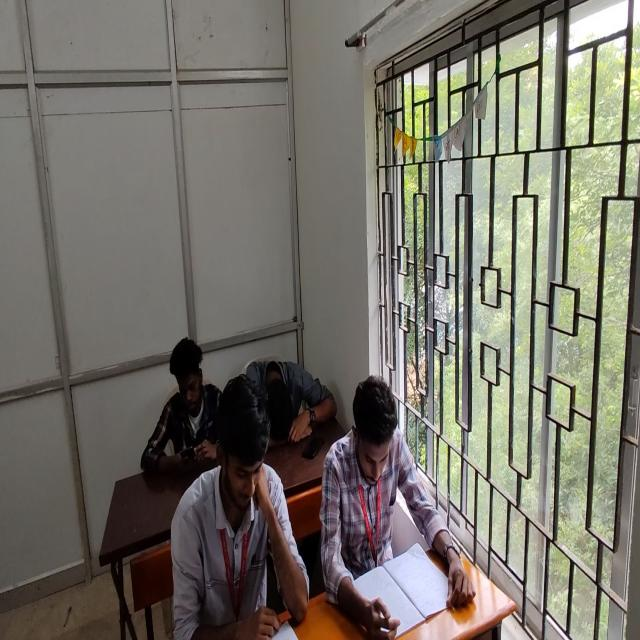reading: (169, 372, 309, 640), (330, 376, 455, 631)
sleeping: (244, 358, 332, 448)
using_mobile: (140, 336, 222, 476)
